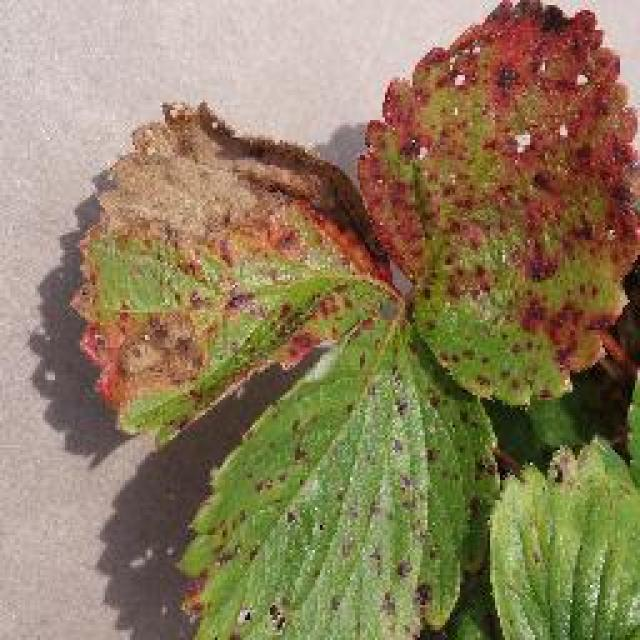Strawberry leaf scorch: (90, 15, 595, 502)
